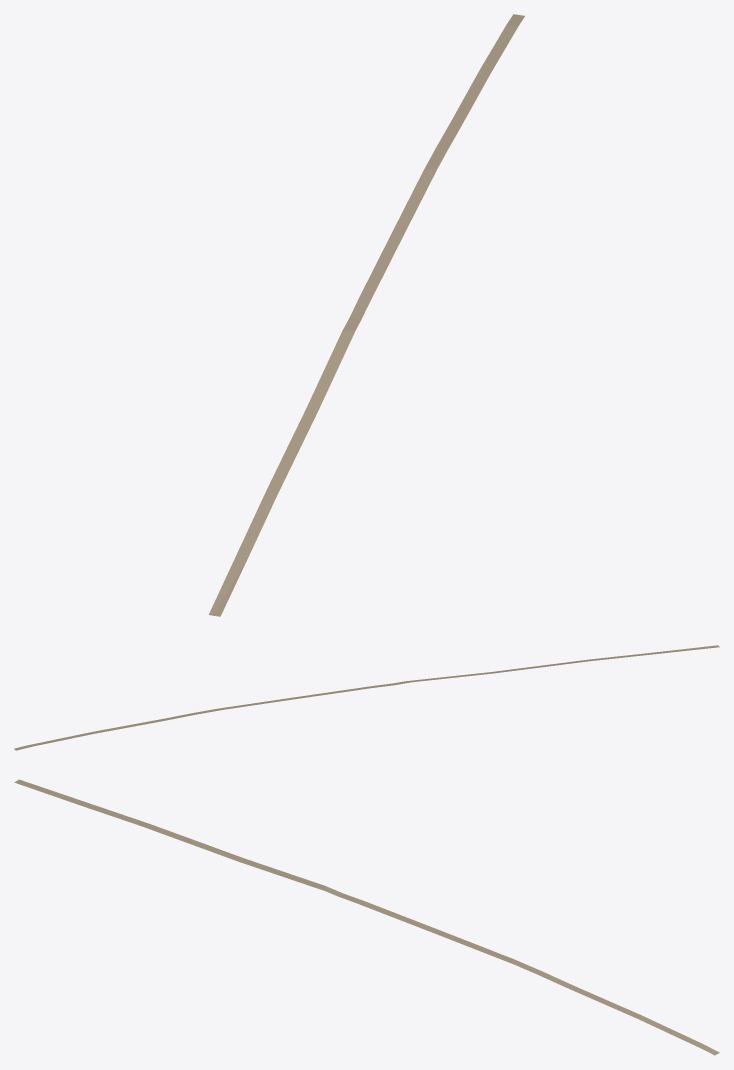
The model's file is farm_16_3_track.glb.
3 views of the same model, one above another, from view 1: azimuth 30°, elevation 25°; view 2: azimuth 150°, elevation 25°; view 3: azimuth 270°, elevation 25° (orthographic). The views are drawn at different scales.
Visible parts, largest first — view 1: geometry_0; view 2: geometry_0; view 3: geometry_0.
Boxes of the visible parts, x1,y1,x2,y2 form: geometry_0: (208,14,524,616); geometry_0: (14,645,719,750); geometry_0: (14,779,719,1055).
Size of the model in its own units: 269 by 8.3 by 300.
